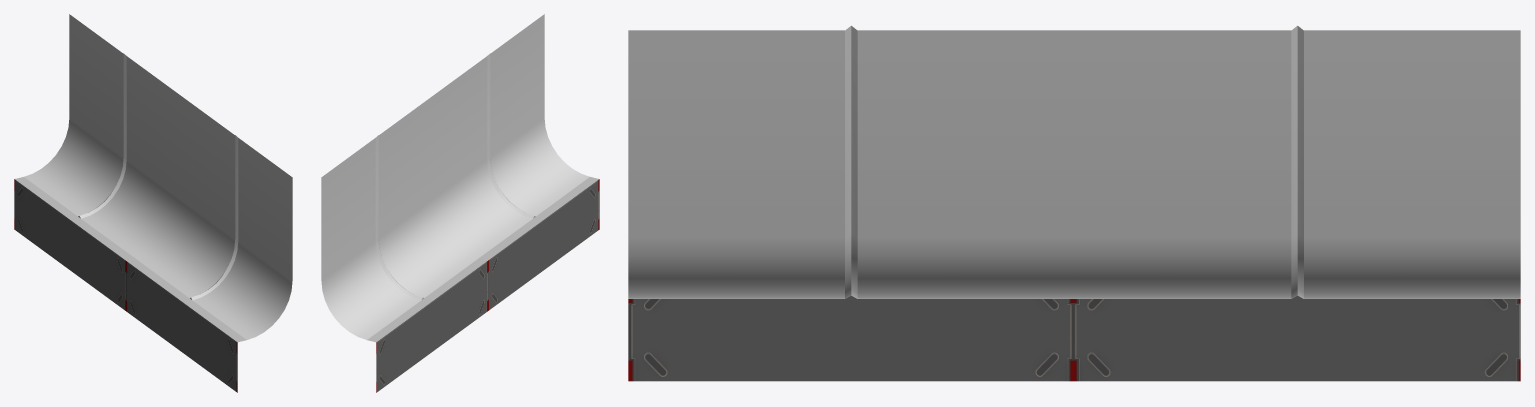
File: TopPlastic_Straight.gltf
The picture shows the model from 3 angles, left to right: view 1: azimuth 30°, elevation 25°; view 2: azimuth 150°, elevation 25°; view 3: azimuth 270°, elevation 25°; orthographic projection. The views are drawn at different scales.
Parts seen in each view (by area): view 1: TopPlastic_Straight; view 2: TopPlastic_Straight; view 3: TopPlastic_Straight.
Boxes of the visible parts, x1=… form: TopPlastic_Straight: x1=14, y1=14, x2=292, y2=392; TopPlastic_Straight: x1=321, y1=14, x2=599, y2=392; TopPlastic_Straight: x1=628, y1=25, x2=1520, y2=381.
Size of the model in its own units: 0.5679 by 2.02 by 4.
3 materials, 2 textured.
